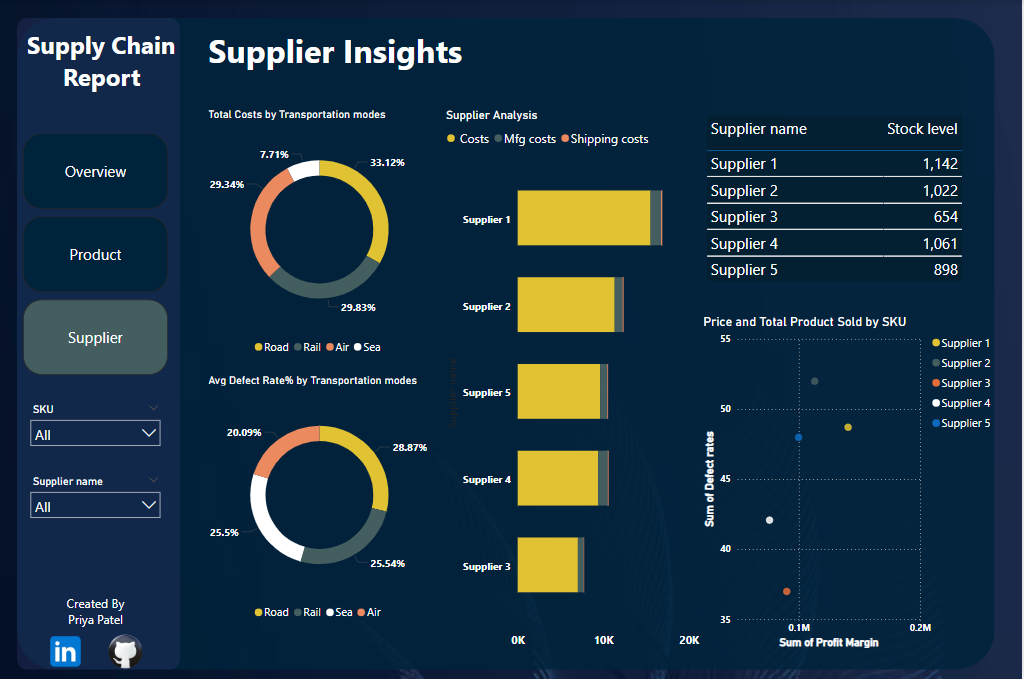

This screenshot's page, from the dashboard's own definition file:
{"tool":"powerbi","page":{"name":"Supplier","canvas":[1355,900],"ordinal":2},"visuals":[{"type":"shape","box":[24,24,1296,864],"z":0},{"type":"shape","box":[24,24,216,864],"z":1000},{"type":"donutChart","fields":{"Category":["supply_chain_data.Transportation modes"],"Y":["Measure.Total Costs"]},"box":[272,144,304,336],"z":1001},{"type":"textbox","box":[272,32,400,80],"z":1002},{"type":"donutChart","fields":{"Category":["supply_chain_data.Transportation modes"],"Y":["Measure.Avg Defect Rate%"]},"box":[272,496,304,336],"z":1003},{"type":"barChart","title":"Supplier Analysis","fields":{"Category":["supply_chain_data.Supplier name"],"Y":["Sum(supply_chain_data.Costs)","Sum(supply_chain_data.Mfg costs)","Sum(supply_chain_data.Shipping costs)"]},"box":[592,144,336,720],"z":1004},{"type":"tableEx","fields":{"Values":["supply_chain_data.Supplier name","Measure.Stock level"]},"box":[928,144,368,240],"z":1005},{"type":"scatterChart","title":" Price and Total Product Sold by SKU","fields":{"X":["Sum(supply_chain_data.Profit Margin)"],"Y":["Sum(supply_chain_data.Defect rates)"],"Series":["supply_chain_data.Supplier name"]},"box":[928,416,400,448],"z":1006},{"type":"pageNavigator","box":[32,176,192,320],"z":1007},{"type":"textbox","box":[32,784,192,64],"z":1008},{"type":"slicer","fields":{"Values":["supply_chain_data.SKU"]},"box":[32,528,192,80],"z":1009},{"type":"slicer","fields":{"Values":["supply_chain_data.Supplier name"]},"box":[32,624,192,80],"z":1010},{"type":"textbox","box":[32,32,208,128],"z":1011},{"type":"image","box":[48,832,80,64],"z":1012},{"type":"image","box":[128,832,80,64],"z":1013}]}

Visuals, with their boxes in screenshot pixels (x1, y1, x2, y2), scaled from the page's 1355x900 canvas onto the 1024x679 screenshot:
shape: select_region(18, 18, 998, 670)
shape: select_region(18, 18, 181, 670)
donutChart - supply_chain_data.Transportation modes x Measure.Total Costs: select_region(206, 109, 435, 362)
textbox: select_region(206, 24, 508, 84)
donutChart - supply_chain_data.Transportation modes x Measure.Avg Defect Rate%: select_region(206, 374, 435, 628)
"Supplier Analysis" barChart: select_region(447, 109, 701, 652)
tableEx - supply_chain_data.Supplier name x Measure.Stock level: select_region(701, 109, 979, 290)
" Price and Total Product Sold by SKU" scatterChart: select_region(701, 314, 1004, 652)
pageNavigator: select_region(24, 133, 169, 374)
textbox: select_region(24, 591, 169, 640)
slicer - supply_chain_data.SKU: select_region(24, 398, 169, 459)
slicer - supply_chain_data.Supplier name: select_region(24, 471, 169, 531)
textbox: select_region(24, 24, 181, 121)
image: select_region(36, 628, 97, 676)
image: select_region(97, 628, 157, 676)
